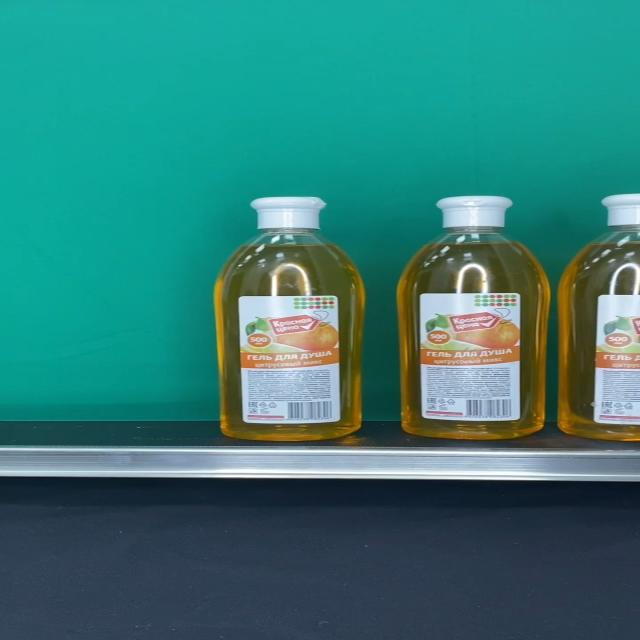Bottle: (213, 195, 367, 441), (397, 195, 550, 440)
Cap: (250, 196, 328, 230), (434, 195, 514, 228)
